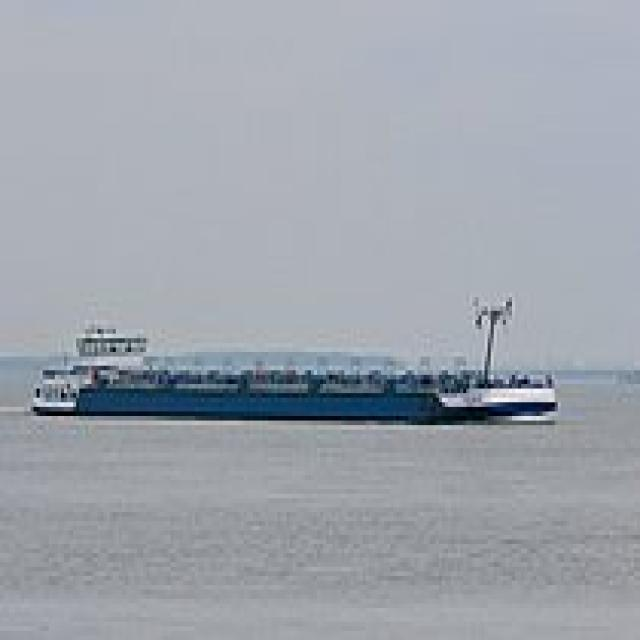Tanker: (28, 288, 554, 416)
